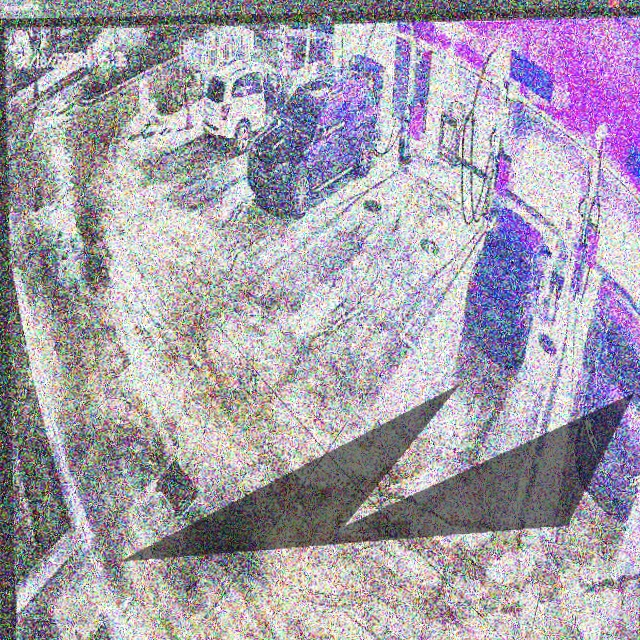Car: (245, 51, 382, 216), (466, 205, 552, 367), (202, 59, 306, 148)
